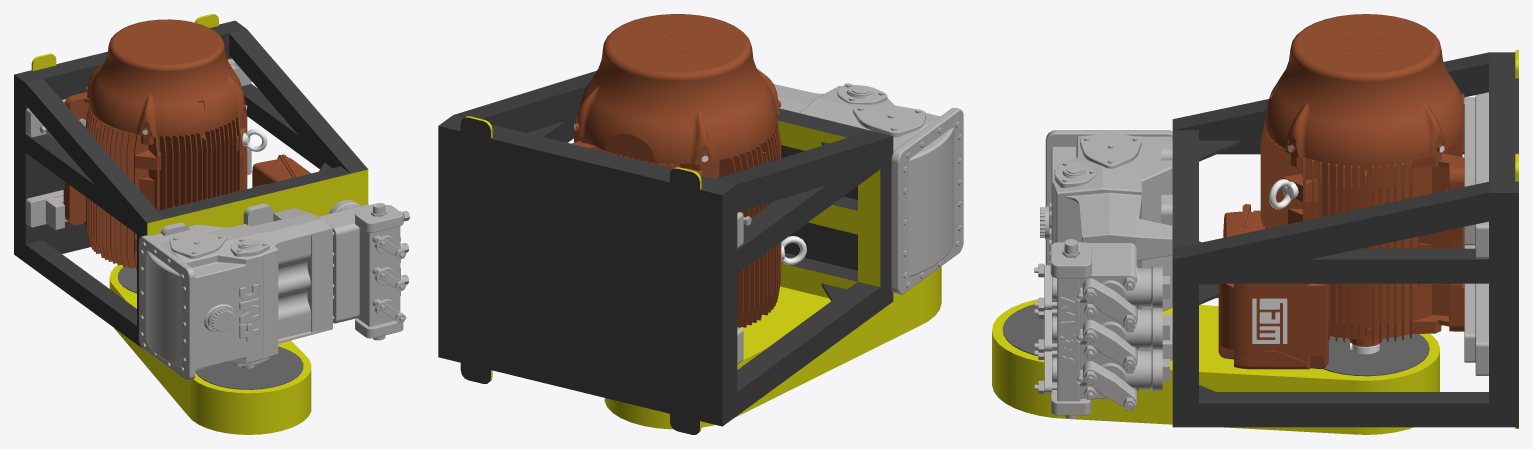
Rendered from (SBS) pump.glb.
3 renders of one model, left to right at view 1: azimuth 30°, elevation 25°; view 2: azimuth 150°, elevation 25°; view 3: azimuth 270°, elevation 25°, orthographic. The views are drawn at different scales.
Parts seen in each view (by area): view 1: Solid9; view 2: Solid9; view 3: Solid9.
Part boxes in pixels (x1,y1,x2,y2): Solid9: (14, 14, 409, 434); Solid9: (438, 14, 963, 434); Solid9: (992, 14, 1518, 434).
Size of what is drawn, in the model's own units: 1.03 by 1.13 by 1.5.
